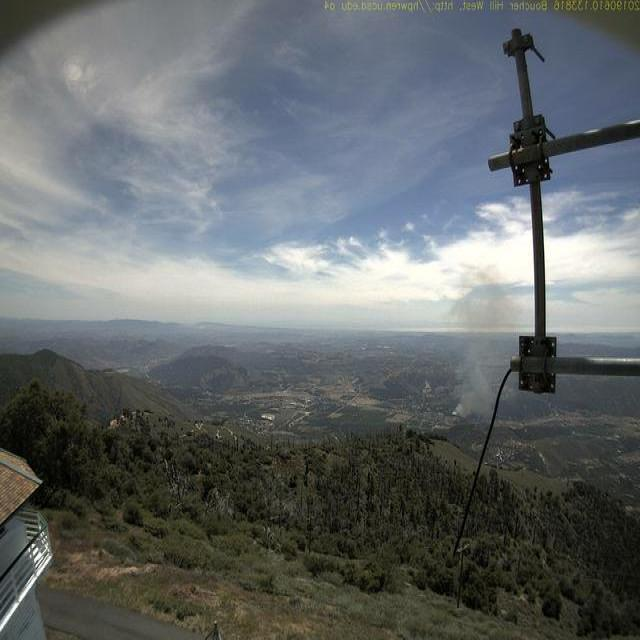smoke: (447, 268, 520, 416)
